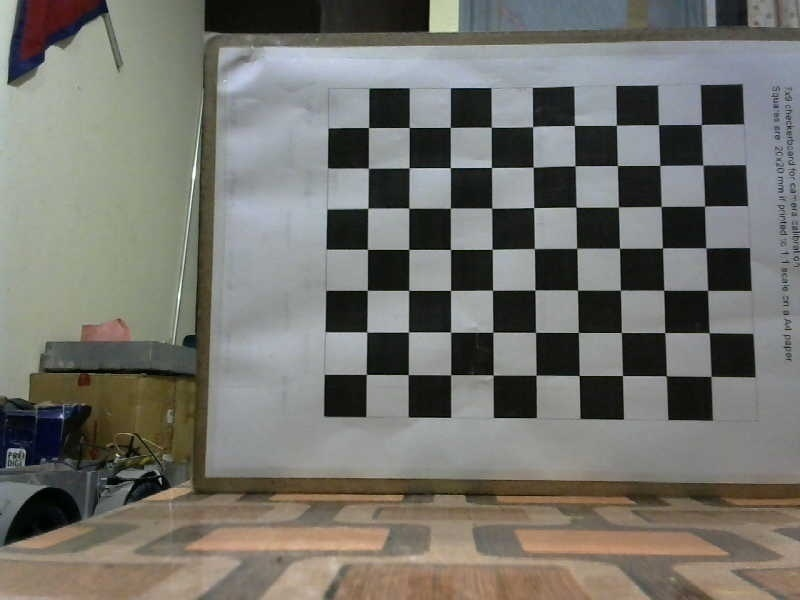block: (209, 37, 797, 490)
